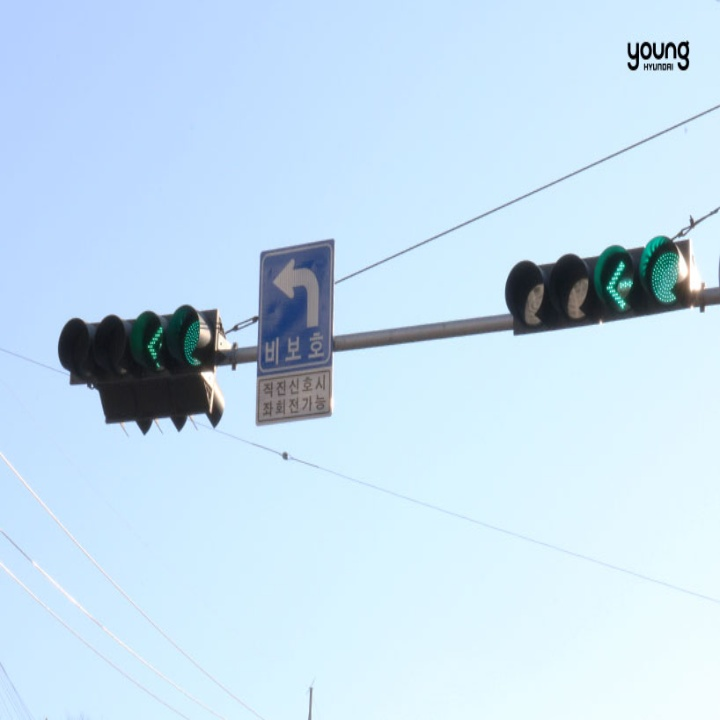left: (264, 251, 329, 332)
